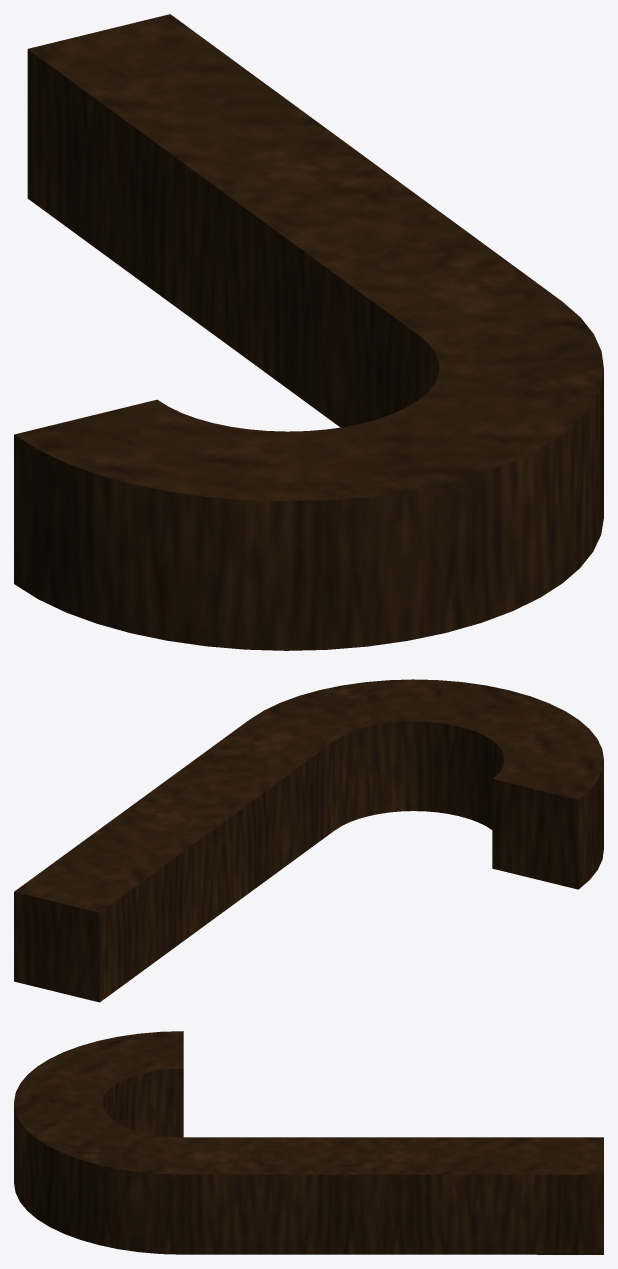
Rendered from LetterJ.obj.
The picture shows the model from 3 angles, top to bottom: view 1: azimuth 30°, elevation 25°; view 2: azimuth 150°, elevation 25°; view 3: azimuth 270°, elevation 25°; orthographic projection. The views are drawn at different scales.
Visible parts, largest first — view 1: LetterJ; view 2: LetterJ; view 3: LetterJ.
Boxes of the visible parts, x1,y1,x2,y2 form: LetterJ: [14, 14, 603, 650]; LetterJ: [14, 679, 603, 1002]; LetterJ: [14, 1031, 603, 1254].
Size of the model in its own units: 0.5755 by 0.15 by 1.
